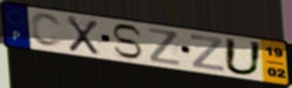C: (29, 12, 65, 49)
S: (110, 23, 144, 61)
U: (222, 36, 265, 77)
X: (66, 14, 101, 57)
Z: (146, 27, 184, 68), (189, 33, 226, 73)
